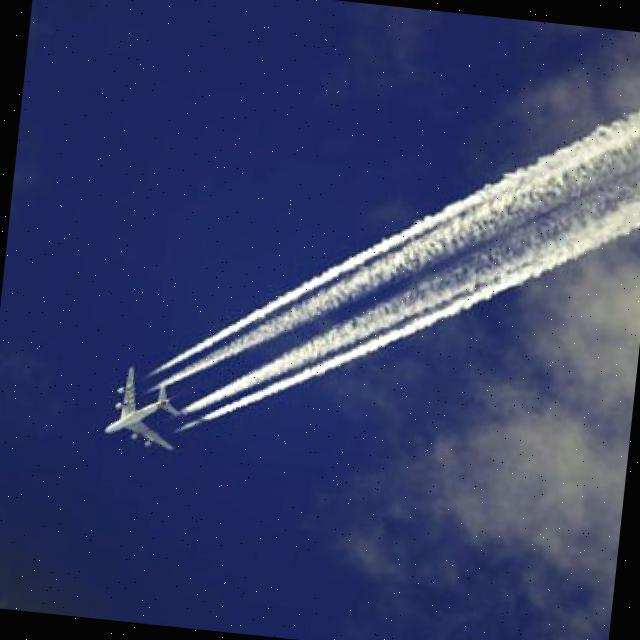Ct: (81, 27, 640, 517)
